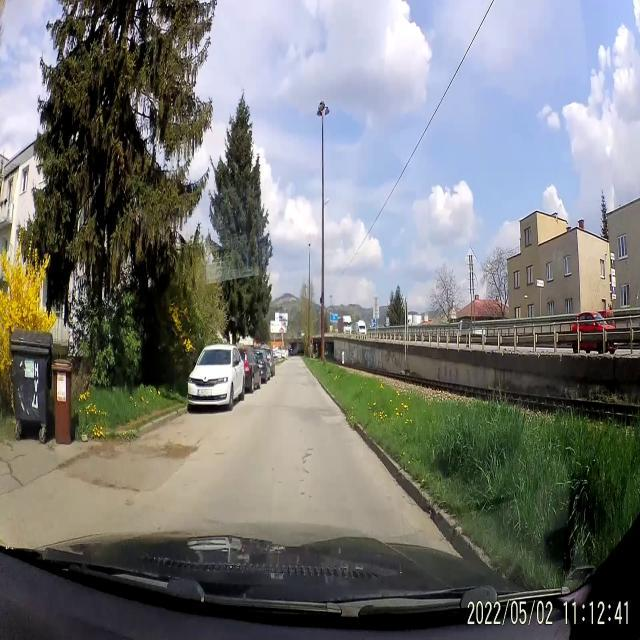Pothole: (65, 440, 215, 496)
